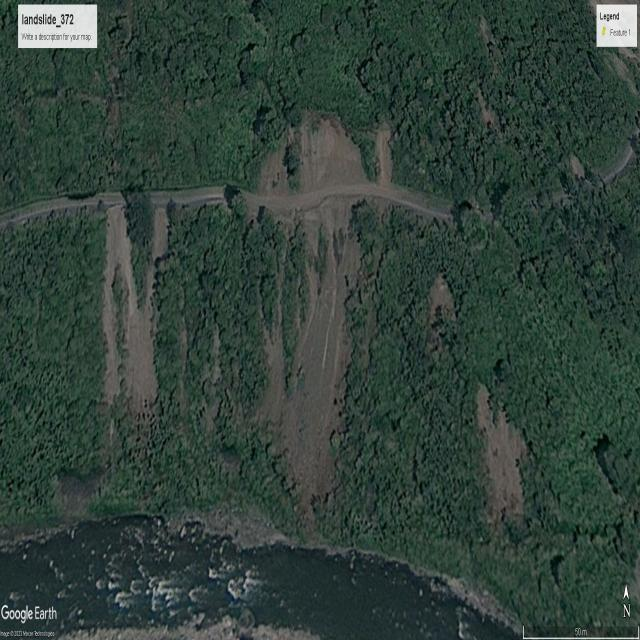Landslide: (304, 220, 362, 500), (108, 210, 176, 422), (269, 107, 380, 192), (473, 386, 528, 544)
